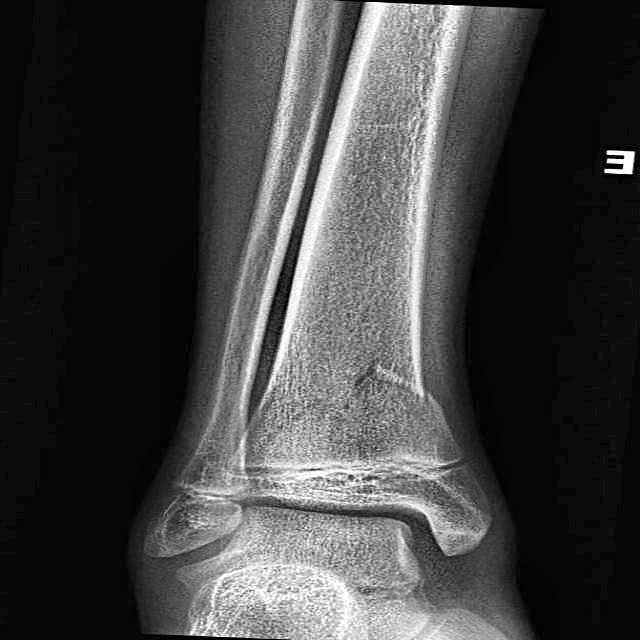Oblique Displaced: (292, 359, 464, 465)
